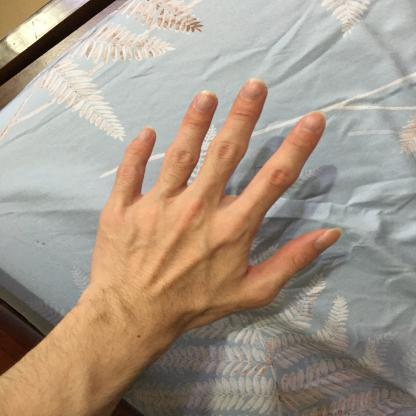bare_hand: (83, 70, 345, 344)
